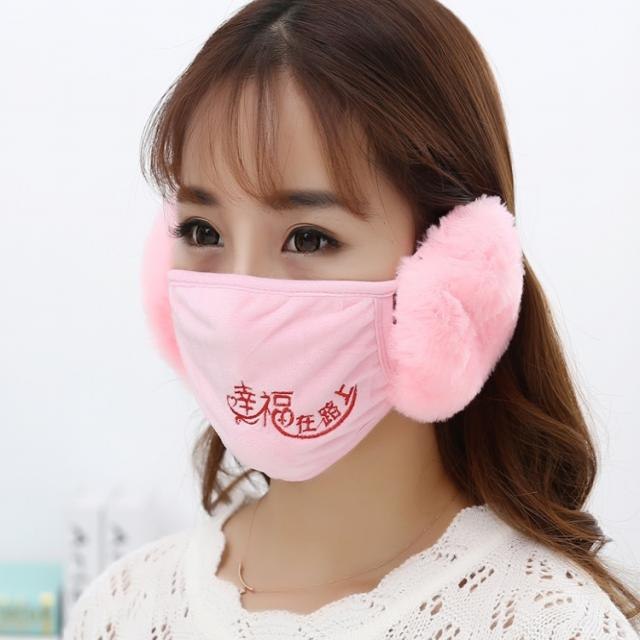mask: (158, 86, 410, 460)
